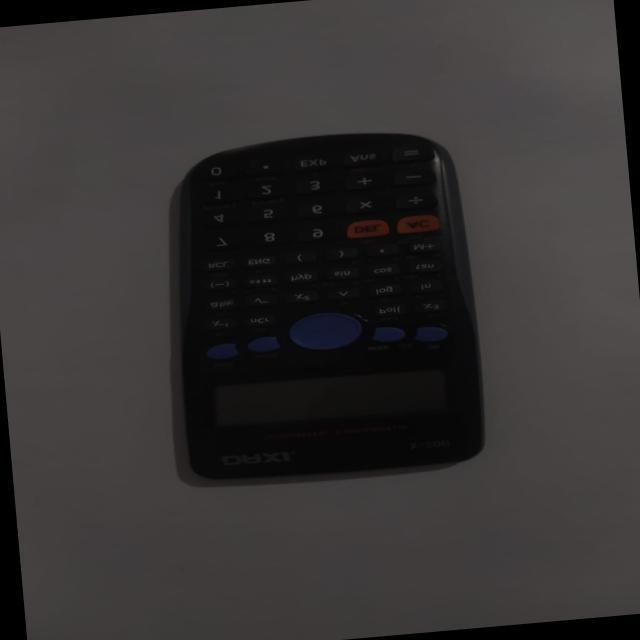Calculator: (149, 121, 489, 491)
